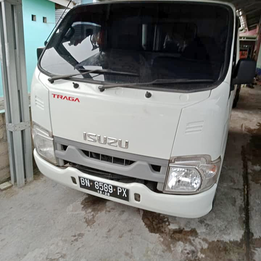plate: (77, 170, 132, 203)
